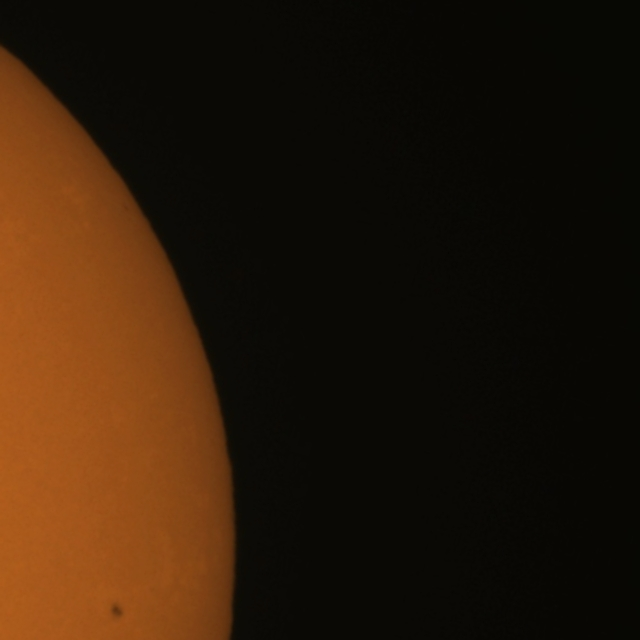sunspot: (108, 600, 126, 622)
